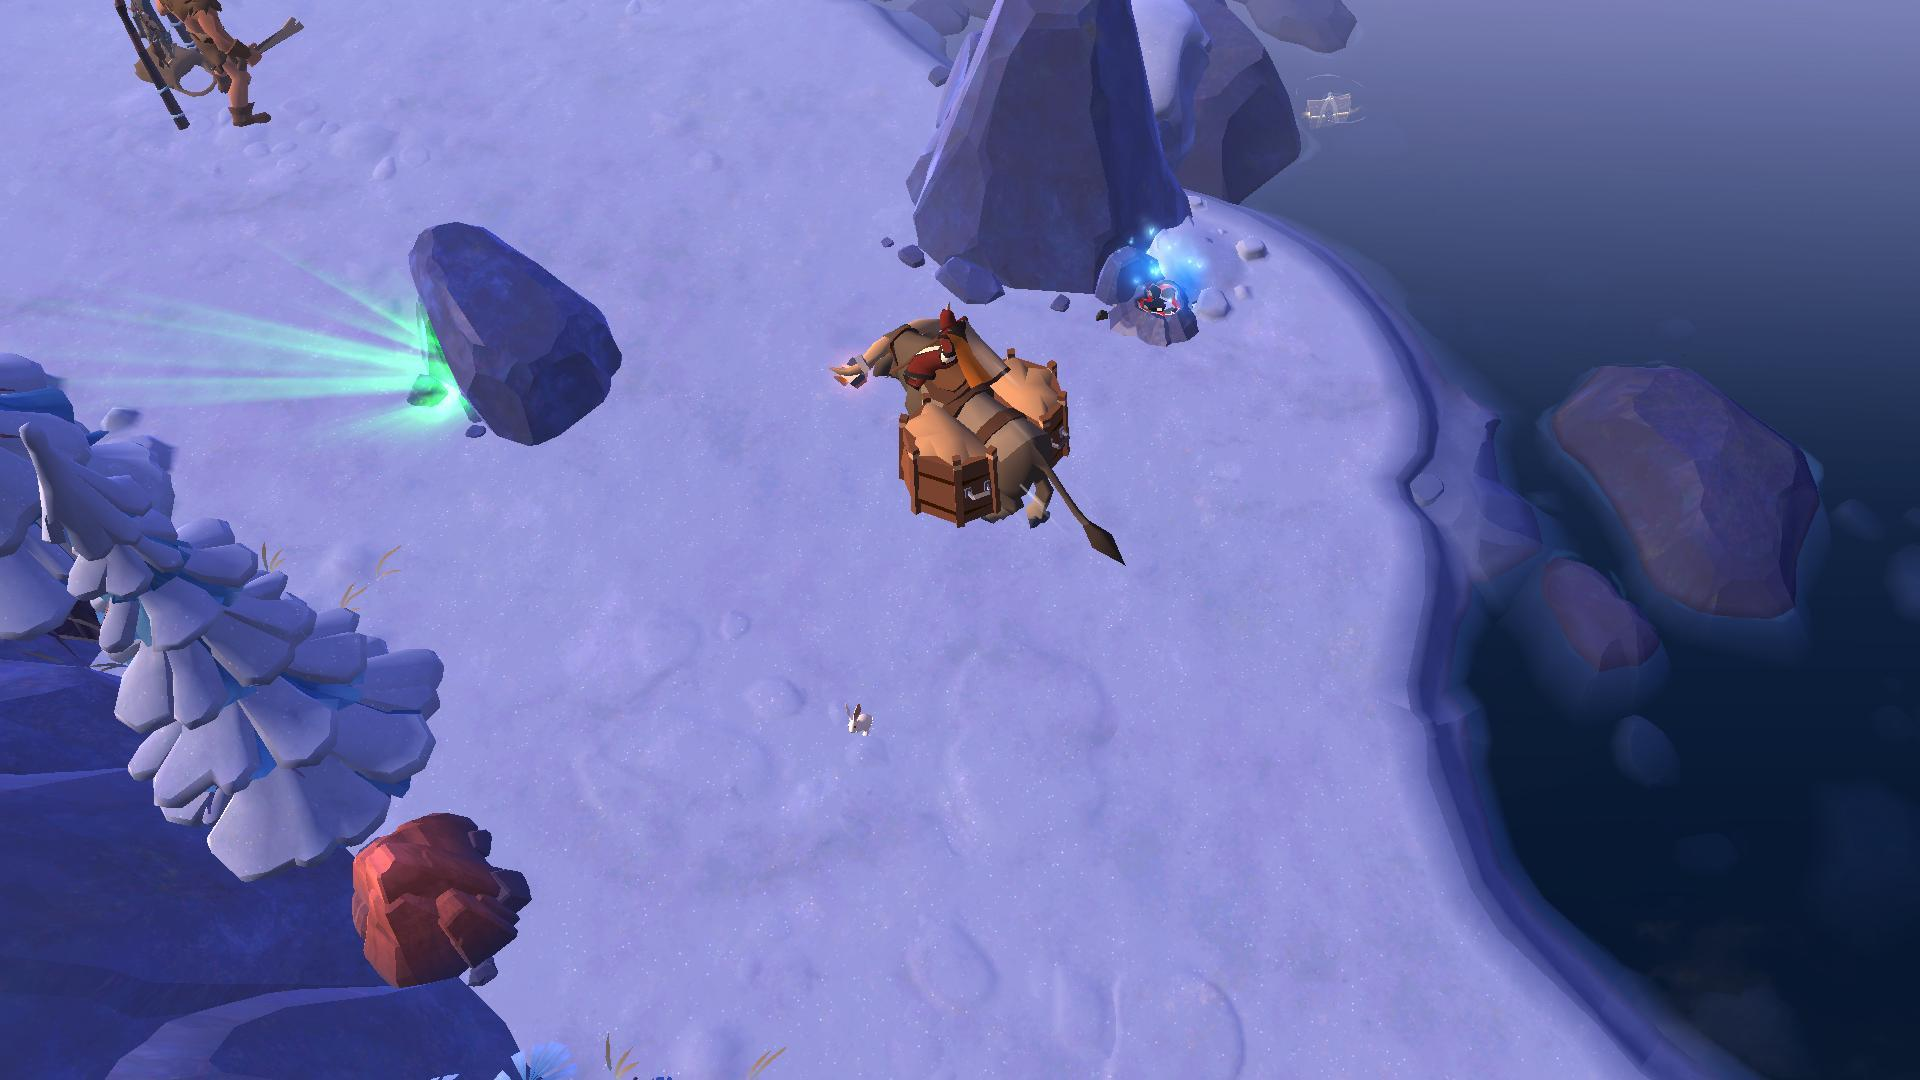enemy_factionKeeper: (158, 0, 311, 140)
rock_t5: (340, 807, 529, 984)
